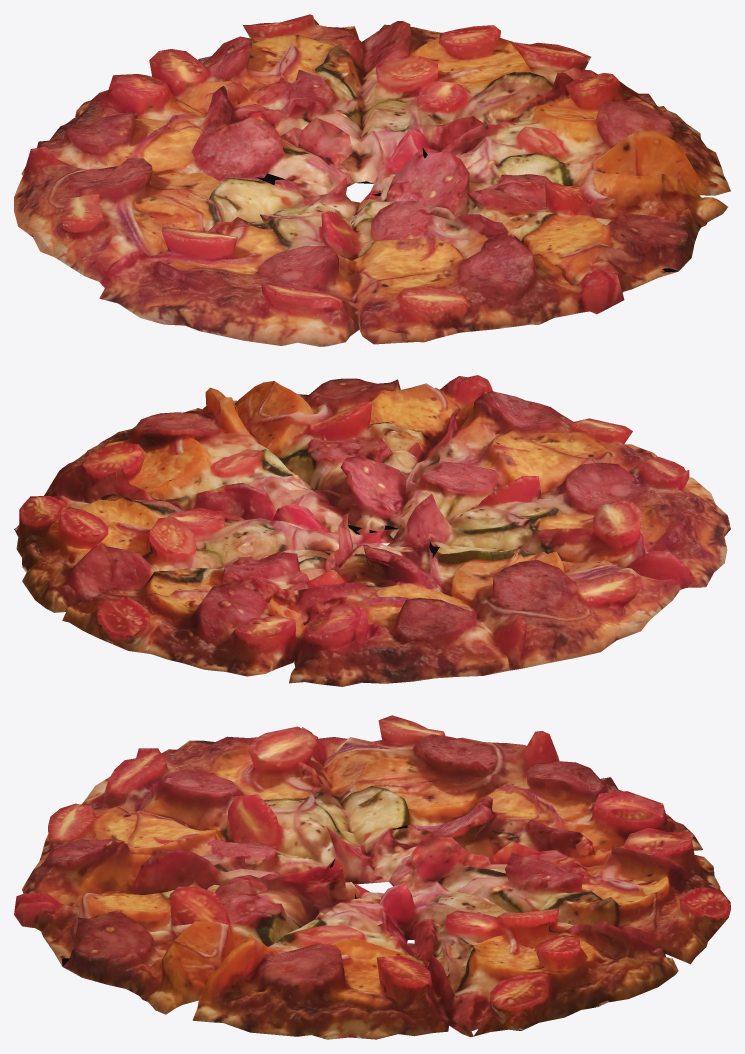
Rendered from pizza.glb.
3 renders of one model, top to bottom at view 1: azimuth 30°, elevation 25°; view 2: azimuth 150°, elevation 25°; view 3: azimuth 270°, elevation 25°, orthographic. The views are drawn at different scales.
Visible parts, largest first — view 1: Material2; view 2: Material2; view 3: Material2.
Boxes of the visible parts, x1,y1,x2,y2 form: Material2: (14, 14, 730, 346); Material2: (14, 375, 730, 686); Material2: (14, 715, 730, 1039).
Bounding box in the file's own units: 12.18 × 1.1 × 12.34.
2 materials, 1 textured.
